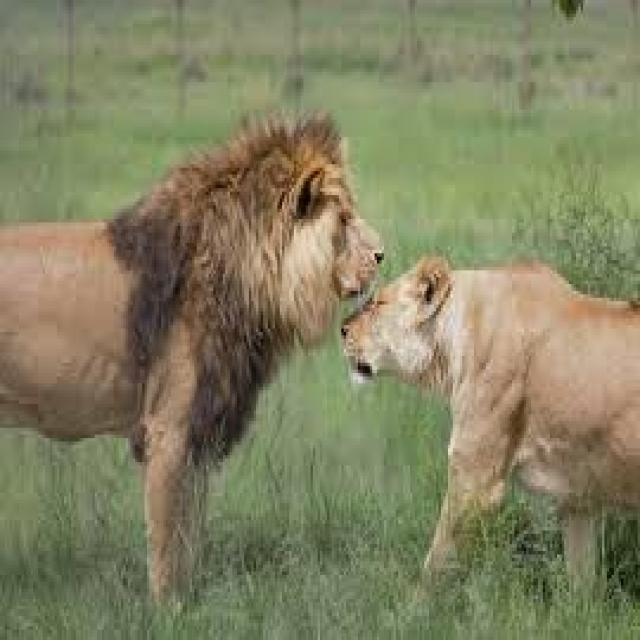Lion: (0, 116, 377, 596), (341, 257, 638, 565)
